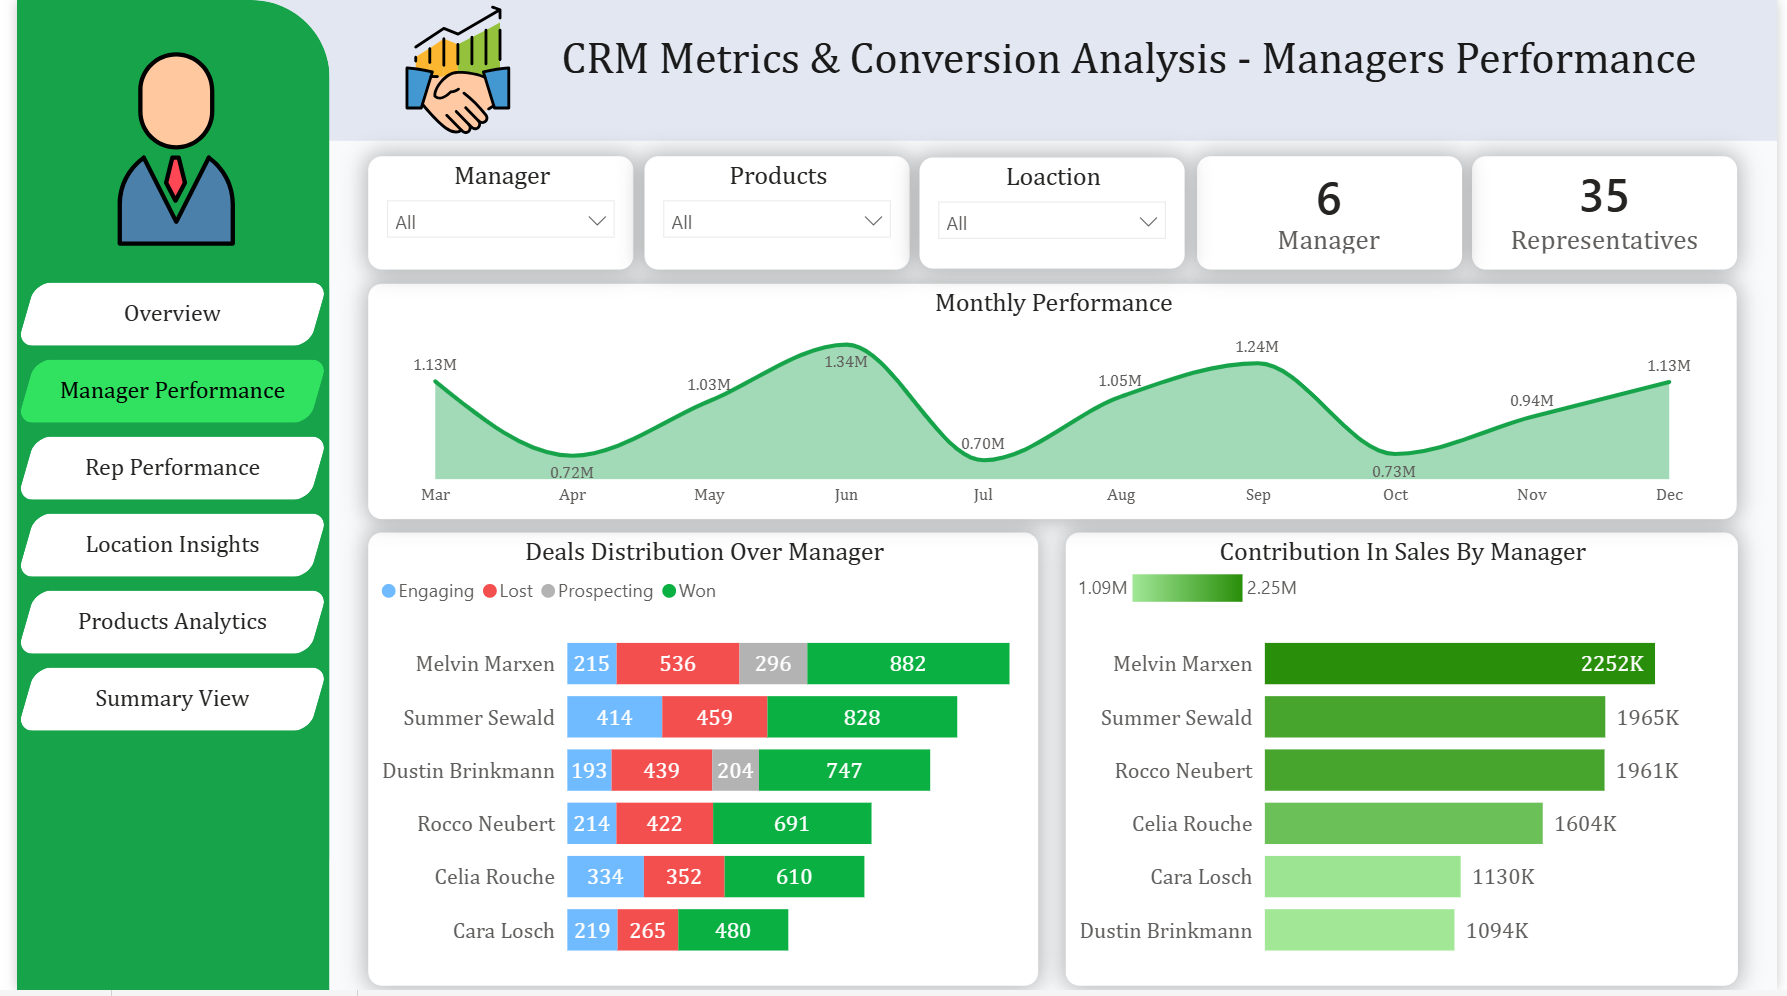

The page's visual inventory and layout, read from the dashboard file:
{"tool":"powerbi","page":{"name":"Manager Performance","canvas":[1280,720],"ordinal":1},"visuals":[{"type":"shape","box":[0,0,1280,102.5],"z":0},{"type":"shape","box":[0,0,227.4,720],"z":1000},{"type":"textbox","box":[391.3,20.8,854.8,63.6],"z":2000},{"type":"image","box":[32.6,37.4,166.5,142.4],"z":3000},{"type":"pageNavigator","box":[0,205.1,226.8,331.8],"z":4000},{"type":"clusteredBarChart","title":"Contribution In Sales By Manager","fields":{"Y":["Measures Table.Total Value"],"Category":["sales_teams.manager"]},"box":[762.5,387.3,488.6,329.4],"z":5000},{"type":"barChart","title":"Deals Distribution Over  Manager","fields":{"Y":["CountNonNull(sales_pipeline.opportunity_id)"],"Series":["sales_pipeline.deal_stage"],"Category":["sales_teams.manager"]},"box":[255.8,387.3,487.4,329.4],"z":6000},{"type":"areaChart","title":"Monthly Performance","fields":{"Category":["Calender.Month"],"Y":["Measures Table.Total Value"]},"box":[255.6,206.3,995.3,171.3],"z":7000},{"type":"slicer","title":"Manager","fields":{"Values":["sales_teams.manager"]},"box":[255.6,113.4,193,82],"z":8000},{"type":"slicer","title":"Products","fields":{"Values":["products.product"]},"box":[456,113.4,193,82],"z":9000},{"type":"cardVisual","fields":{"Data":["Measures Table.Total sales agent"]},"box":[1058,113.4,193,82],"z":10000},{"type":"cardVisual","fields":{"Data":["Count(sales_teams.manager)"]},"box":[857.8,113.4,193,82],"z":11000},{"type":"slicer","title":"Loaction","fields":{"Values":["sales_teams.regional_office"]},"box":[656.3,114.6,193,80.8],"z":12000},{"type":"image","box":[229.2,3.6,183.4,94.1],"z":13000}]}

Visuals, with their boxes in screenshot pixels (x1, y1, x2, y2), scaled from the page's 1280x720 canvas onto the 1787x996 screenshot:
shape: 0,0,1786,142
shape: 0,0,317,995
textbox: 546,29,1740,117
image: 46,52,278,249
pageNavigator: 0,284,317,743
"Contribution In Sales By Manager" clusteredBarChart: 1065,536,1747,991
"Deals Distribution Over  Manager" barChart: 357,536,1038,991
"Monthly Performance" areaChart: 357,285,1746,522
"Manager" slicer: 357,157,626,270
"Products" slicer: 637,157,906,270
cardVisual - Measures Table.Total sales agent: 1477,157,1747,270
cardVisual - Count(sales_teams.manager): 1198,157,1467,270
"Loaction" slicer: 916,159,1186,270
image: 320,5,576,135
